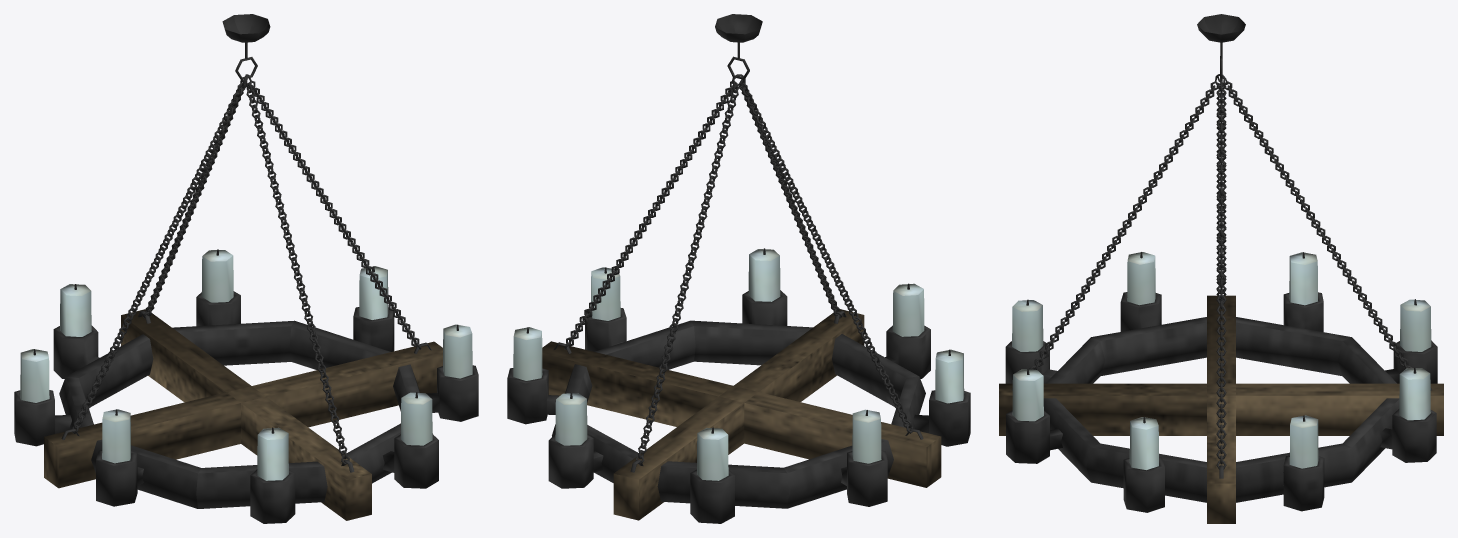
Rendered from MS_Chandelier_1.fbx.
The picture shows the model from 3 angles, left to right: view 1: azimuth 30°, elevation 25°; view 2: azimuth 150°, elevation 25°; view 3: azimuth 270°, elevation 25°; orthographic projection.
Parts seen in each view (by area): view 1: Frame, CandleHolders, Candles, Chains; view 2: Frame, CandleHolders, Candles, Chains; view 3: Frame, CandleHolders, Candles, Chains.
Part boxes in pixels (box(x1,y1,x2,y2)): Frame: box(44, 309, 442, 520); CandleHolders: box(14, 291, 478, 523); Candles: box(20, 249, 472, 480); Chains: box(61, 14, 431, 472); Frame: box(542, 309, 941, 520); CandleHolders: box(507, 290, 970, 523); Candles: box(513, 248, 964, 480); Chains: box(553, 14, 923, 472); Frame: box(999, 295, 1443, 523); CandleHolders: box(1005, 292, 1437, 512); Candles: box(1012, 252, 1431, 470); Chains: box(1012, 14, 1431, 478).
Size of the model in its own units: 100 by 101 by 100.
